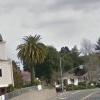Palm tree: (16, 32, 48, 89)
